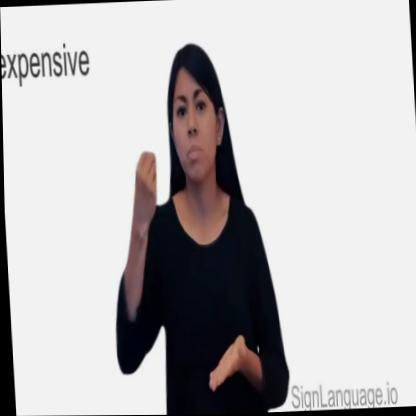Expensive: (105, 131, 262, 413)
